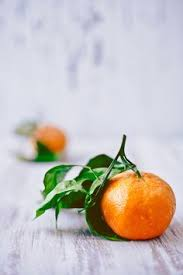orange: (98, 167, 178, 243), (29, 122, 70, 161)
